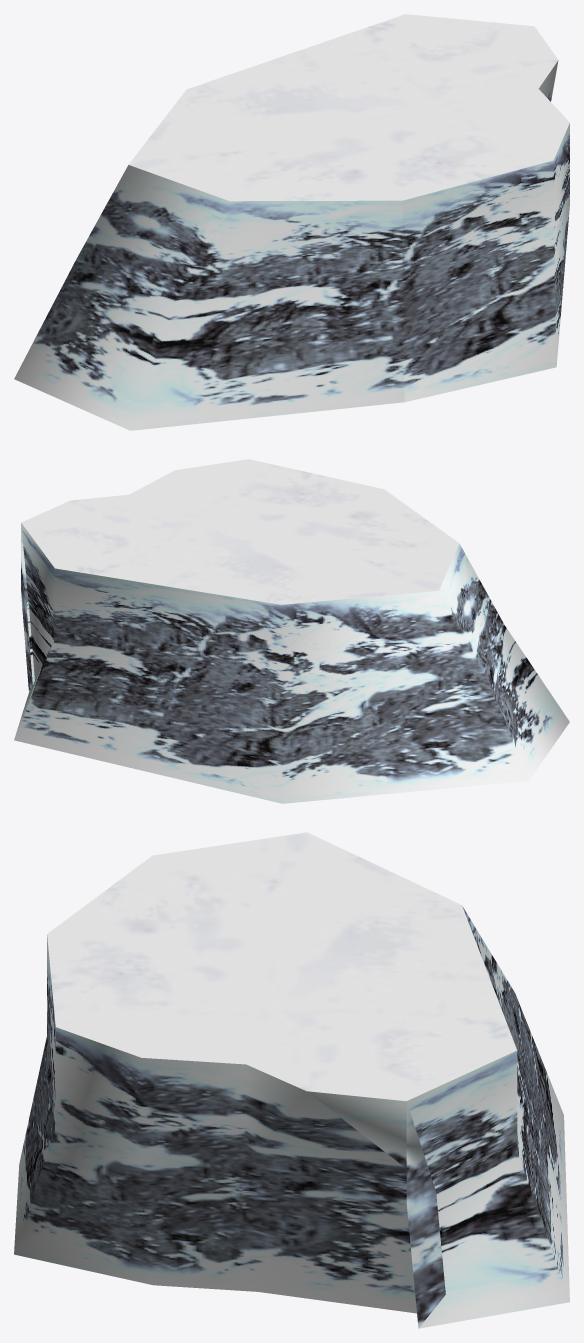
File: san012.obj
3 renders of one model, top to bottom at view 1: azimuth 30°, elevation 25°; view 2: azimuth 150°, elevation 25°; view 3: azimuth 270°, elevation 25°, orthographic. The views are drawn at different scales.
Visible parts, largest first — view 1: san012; view 2: san012; view 3: san012.
Part boxes in pixels (x1,y1,x2,y2): san012: (14, 14, 569, 430); san012: (14, 459, 569, 803); san012: (14, 832, 569, 1328).
Size of the model in its own units: 208 by 68.35 by 146.
